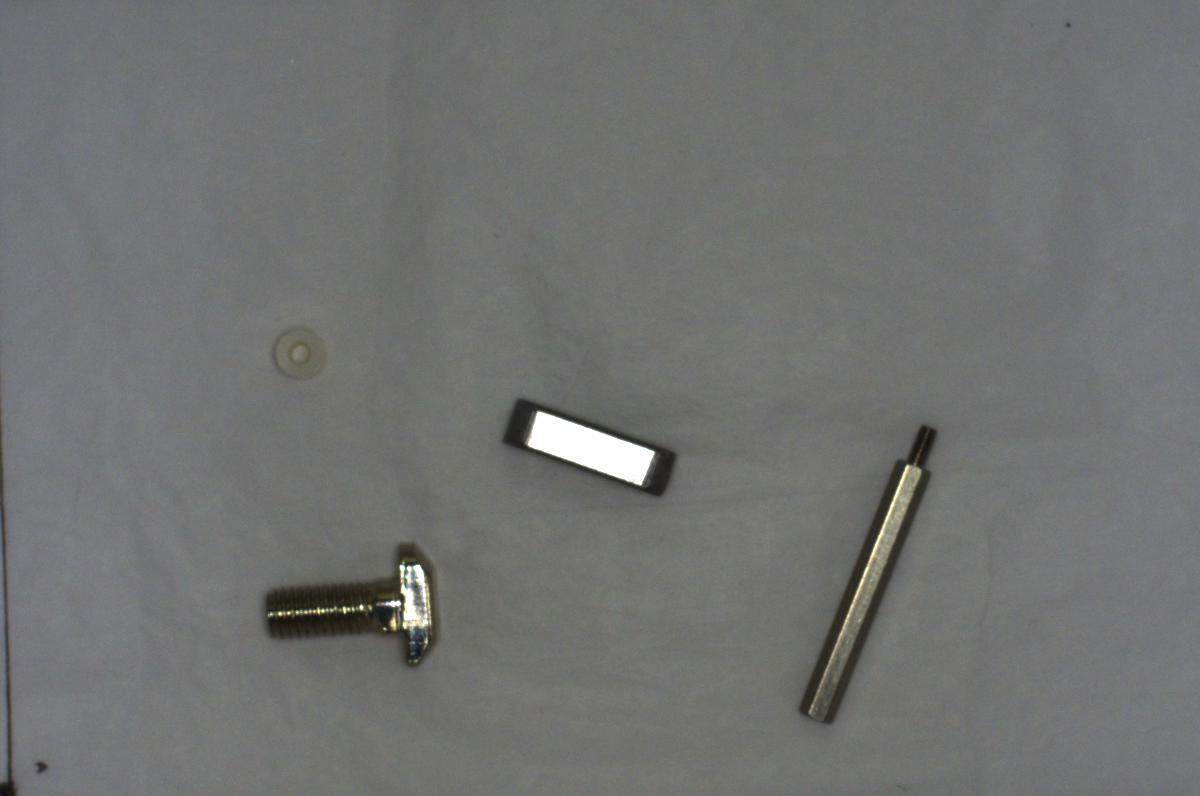Hexagonal steel column: (765, 409, 959, 742)
Keybar: (493, 392, 681, 499)
Plastic cushion pillar: (262, 320, 335, 381)
T-shaped screw: (260, 529, 453, 674)
